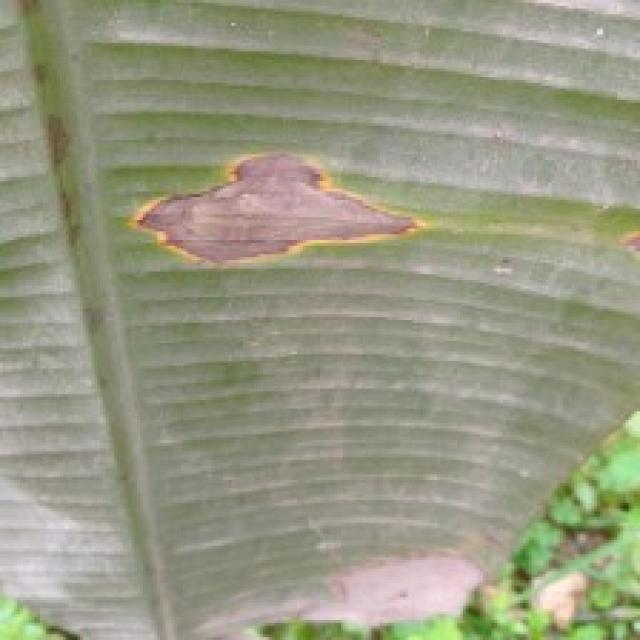Bacterial_spot: (122, 134, 422, 274)
